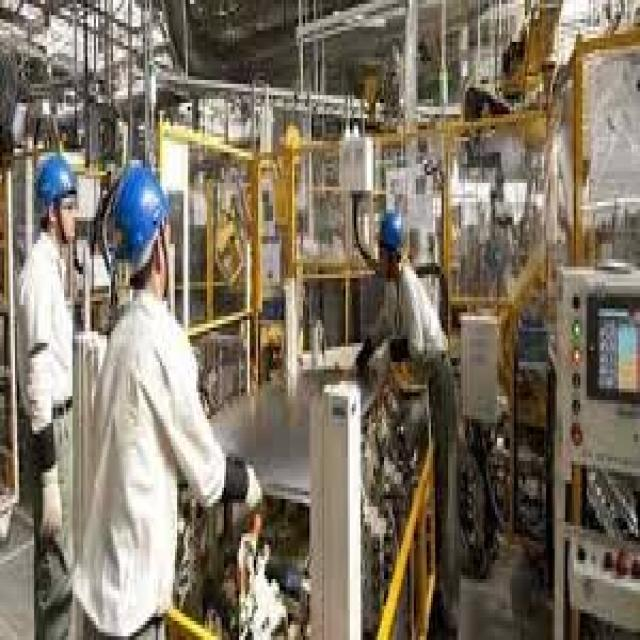safety_helmet: (102, 152, 183, 285), (25, 141, 87, 236), (371, 198, 411, 266)
